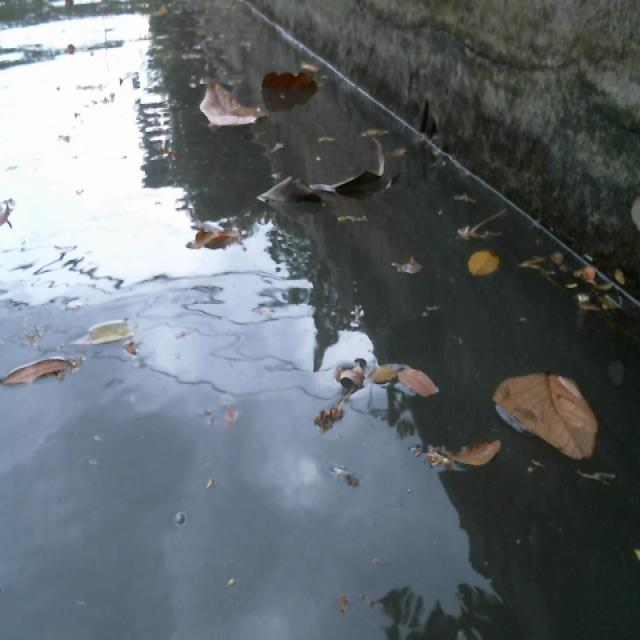Big-leaf: (258, 143, 395, 224), (495, 376, 602, 471), (190, 83, 270, 138), (256, 70, 312, 99)
Small-leaf: (0, 351, 72, 404), (66, 312, 157, 350), (415, 443, 505, 481), (181, 219, 238, 254), (405, 360, 448, 399), (576, 255, 612, 291), (374, 354, 410, 387), (471, 253, 505, 284), (304, 50, 331, 83), (352, 123, 383, 139), (385, 142, 405, 165)
